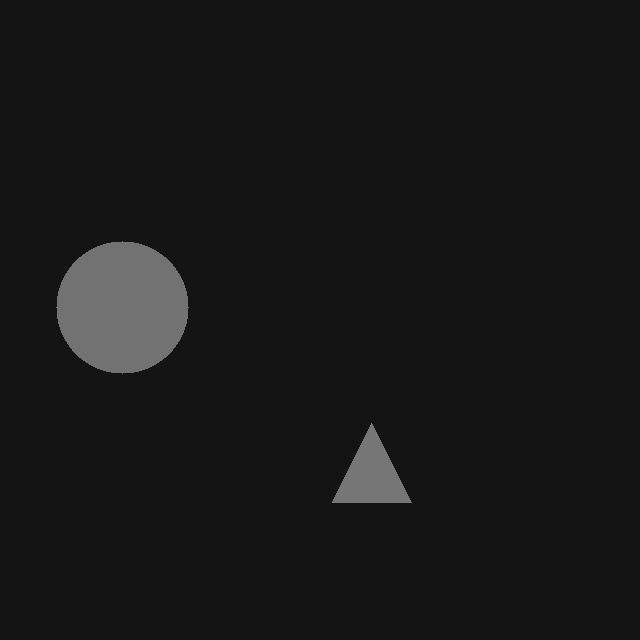circle: (56, 241, 188, 373)
triangle: (332, 423, 411, 502)
